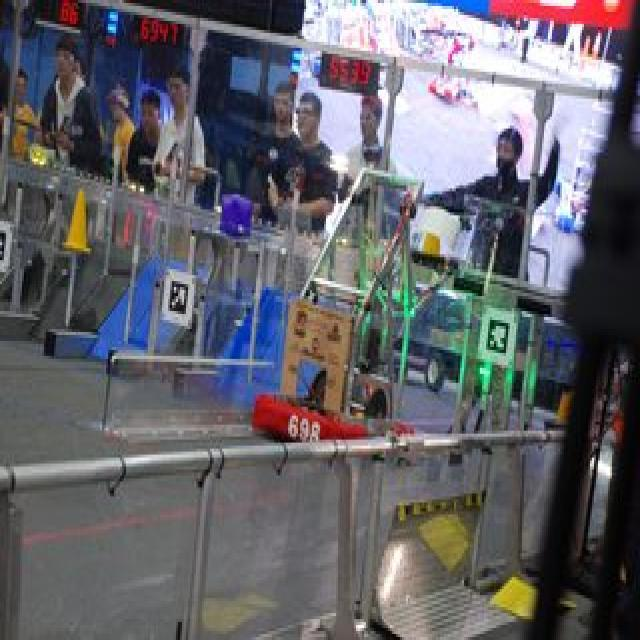robot: (249, 164, 425, 460)
